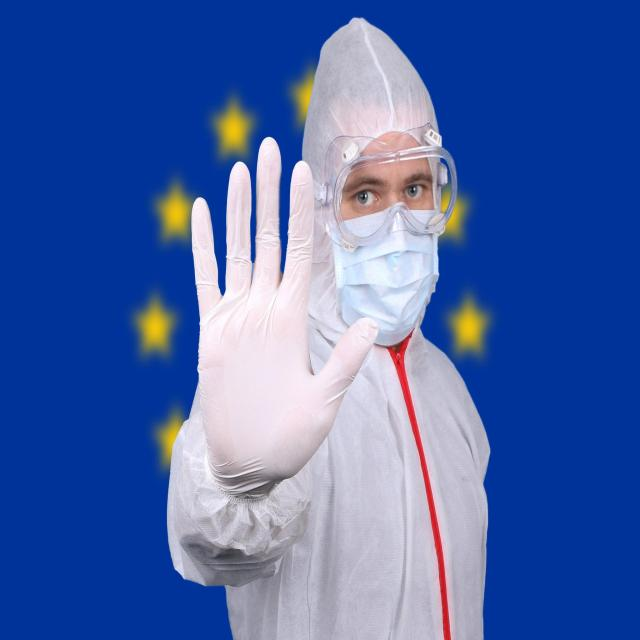Gloves: (190, 135, 381, 505)
Goggles: (322, 127, 458, 243)
Mask: (333, 214, 440, 347)
